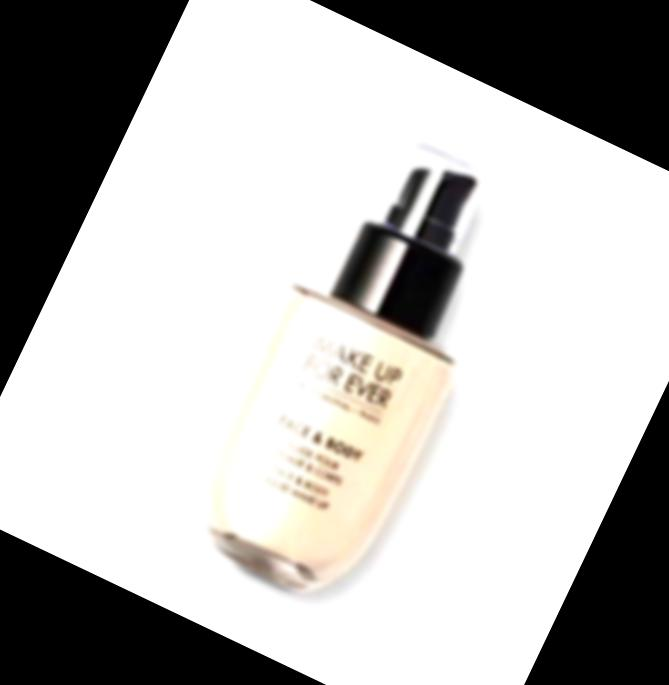cosmetic: (170, 116, 543, 618)
